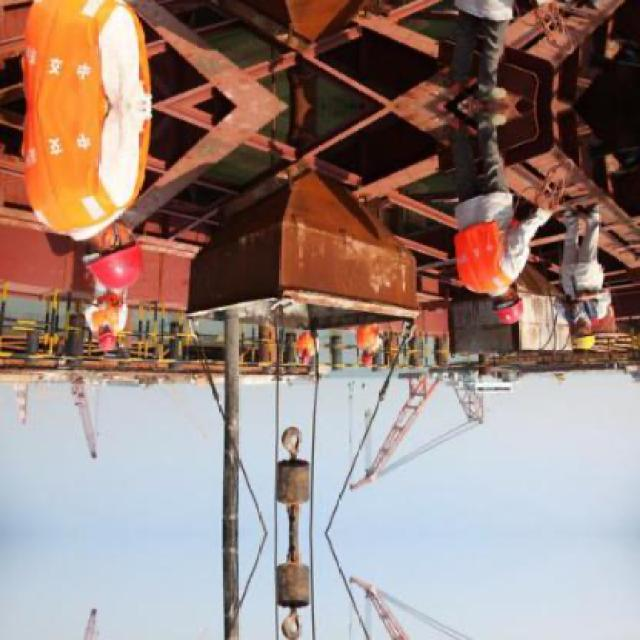con casco: (45, 184, 224, 290), (491, 275, 609, 358), (47, 307, 147, 381), (450, 268, 537, 331), (270, 342, 324, 392)
